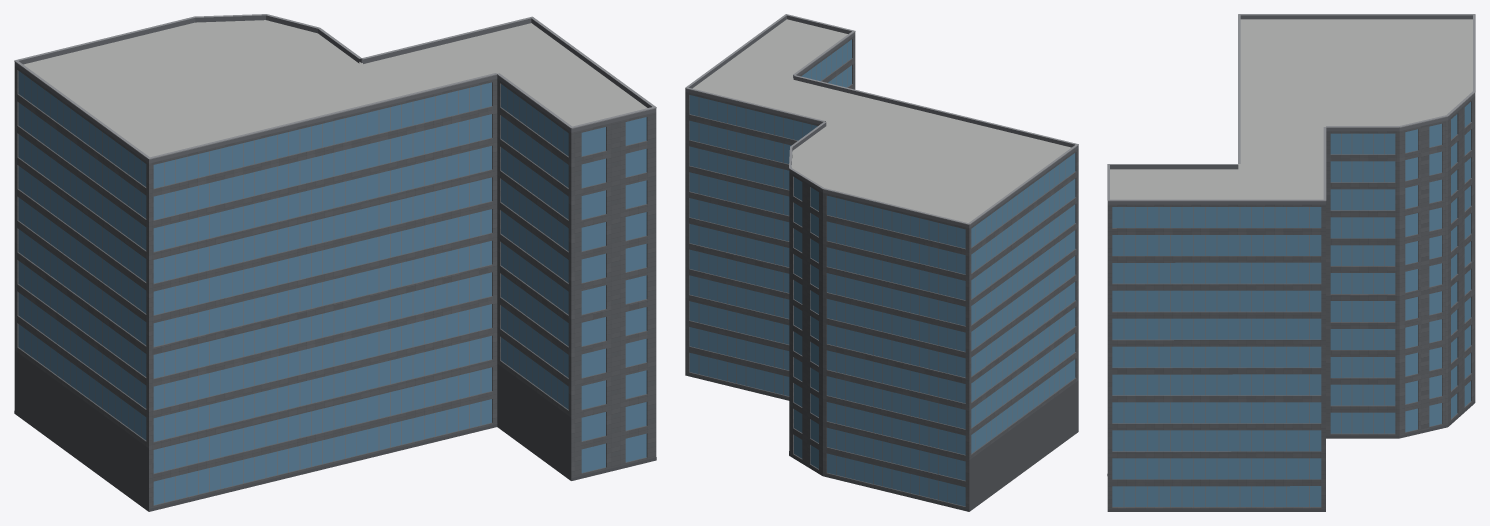
The picture shows the model from 3 angles, left to right: view 1: azimuth 30°, elevation 25°; view 2: azimuth 150°, elevation 25°; view 3: azimuth 270°, elevation 25°; orthographic projection. The views are drawn at different scales.
Parts seen in each view (by area): view 1: teilhard__glass, teilhard__wall, teilhard__roof, teilhard__frame, teilhard__base, teilhard__parapet, teilhard__trim; view 2: teilhard__glass, teilhard__wall, teilhard__roof, teilhard__frame, teilhard__base, teilhard__parapet, teilhard__trim; view 3: teilhard__glass, teilhard__wall, teilhard__roof, teilhard__frame, teilhard__parapet, teilhard__trim, teilhard__base.
Boxes of the visible parts, bbox=[...] form: teilhard__glass: bbox=[18, 71, 646, 504]; teilhard__wall: bbox=[14, 65, 656, 511]; teilhard__roof: bbox=[23, 20, 647, 157]; teilhard__frame: bbox=[24, 75, 563, 502]; teilhard__base: bbox=[14, 350, 656, 511]; teilhard__parapet: bbox=[14, 15, 656, 163]; teilhard__trim: bbox=[14, 14, 656, 159]; teilhard__glass: bbox=[689, 39, 1075, 506]; teilhard__wall: bbox=[685, 35, 1078, 511]; teilhard__roof: bbox=[692, 19, 1071, 222]; teilhard__frame: bbox=[698, 43, 1065, 504]; teilhard__base: bbox=[685, 373, 1078, 511]; teilhard__parapet: bbox=[685, 15, 1078, 227]; teilhard__trim: bbox=[685, 14, 1078, 224]; teilhard__glass: bbox=[1112, 102, 1470, 506]; teilhard__wall: bbox=[1107, 96, 1475, 509]; teilhard__roof: bbox=[1110, 19, 1472, 199]; teilhard__frame: bbox=[1123, 133, 1384, 507]; teilhard__parapet: bbox=[1107, 15, 1475, 204]; teilhard__trim: bbox=[1107, 14, 1475, 201]; teilhard__base: bbox=[1107, 400, 1475, 511].
Size of the model in its own units: 57.39 by 44.6 by 47.83.
Materials: 7 (1 with a texture image).
